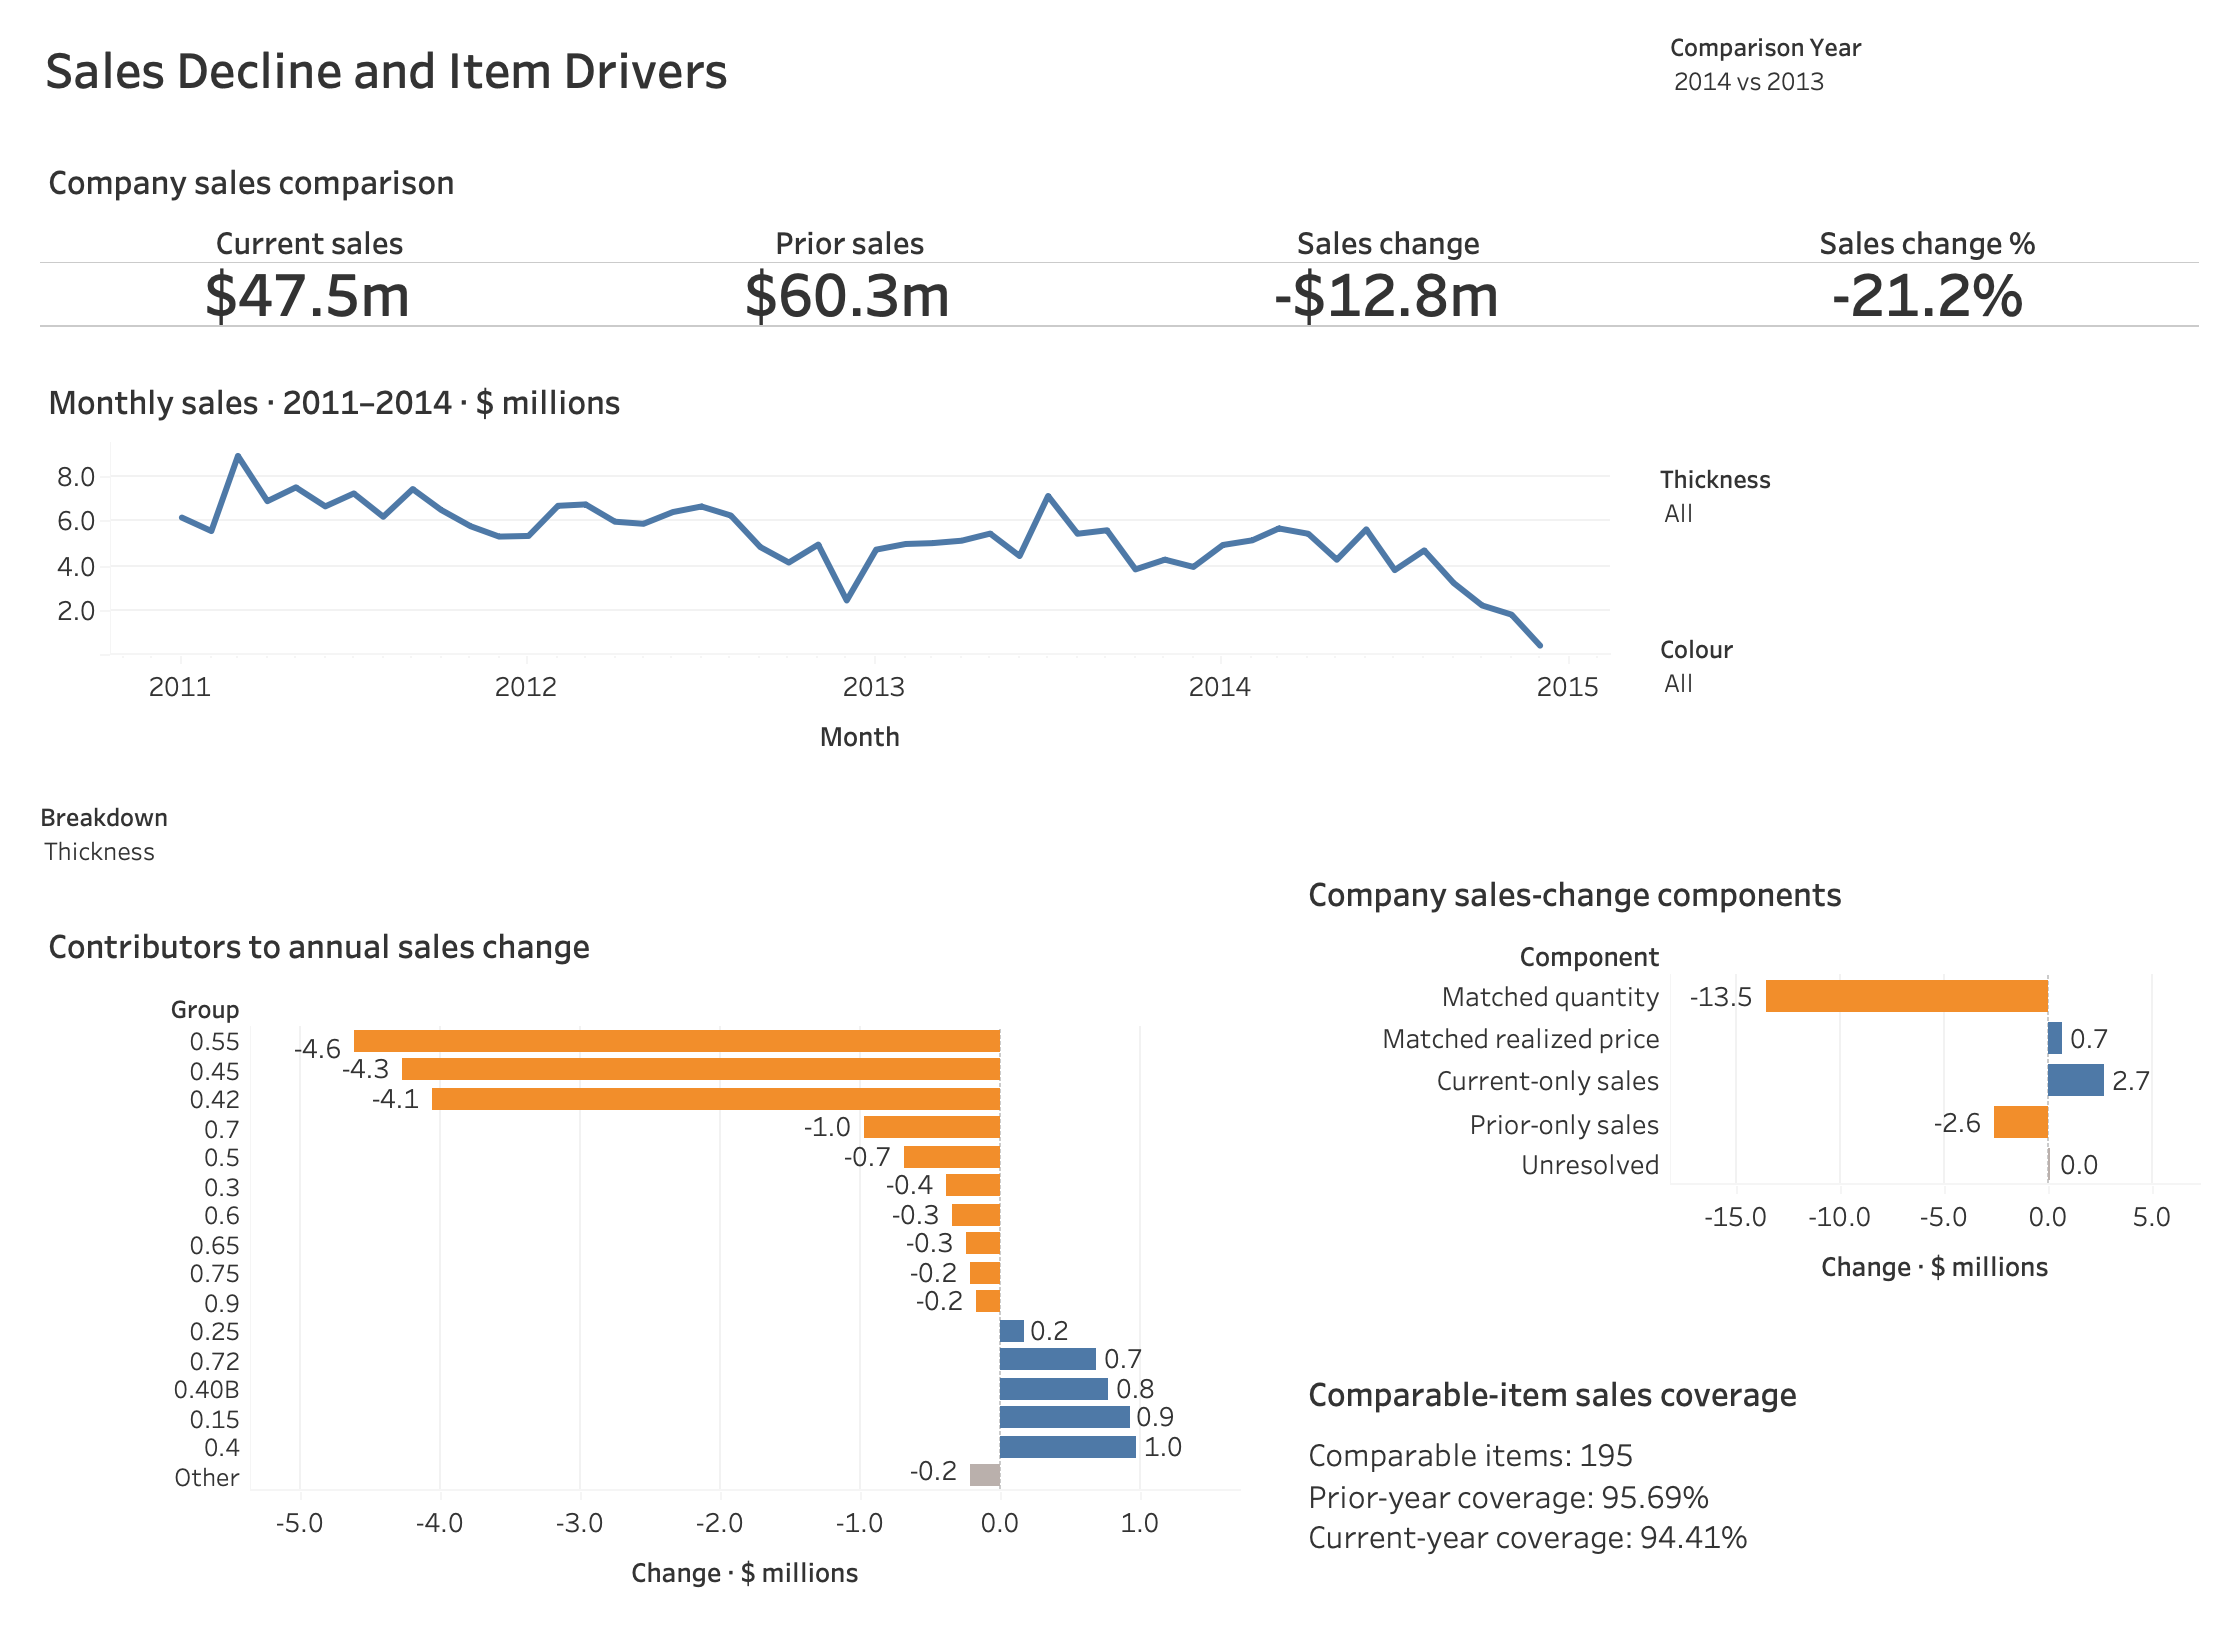

The page's visual inventory and layout, read from the dashboard file:
{"tool":"tableau","page":{"name":"Sales Decline and Item Drivers","canvas":[1120,820],"ordinal":1},"visuals":[{"type":"text","box":[20,14,760,40]},{"type":"parameter","param":"[Parameters].[Parameter 0333204537974784]","box":[835,14,265,50]},{"type":"worksheet","title":"S1 Company comparison","mark":"Text","box":[20,74,1080,90]},{"type":"worksheet","title":"S2 Monthly detail","mark":"Line","rows":["Display_Monthly_Sales_Millions"],"cols":["document_date"],"box":[20,184,785,200]},{"type":"filter","title":"S2 Monthly detail","param":"[federated.0b16y2k1ou1djj16aagss0n07oj8].[none:thickness_code:nk]","box":[830,230,270,55]},{"type":"filter","title":"S2 Monthly detail","param":"[federated.0b16y2k1ou1djj16aagss0n07oj8].[none:colour:nk]","box":[830,315,270,55]},{"type":"parameter","param":"[Parameters].[Parameter 0333204546220034]","box":[20,399,600,50]},{"type":"worksheet","title":"S4 Bridge components","mark":"Bar","rows":["component_label"],"cols":["Display_Bridge_Amount_Millions"],"box":[650,430,450,220]},{"type":"worksheet","title":"S3 Contributors","mark":"Bar","rows":["Display_Contributor_Label"],"cols":["Display_Contributor_Change_Millions"],"box":[20,456,600,346]},{"type":"worksheet","title":"S5 Bridge coverage","mark":"Text","box":[650,680,450,120]}]}

Visuals, with their boxes in screenshot pixels (x1, y1, x2, y2), scaled from the page's 1120x820 canvas onto the 2240x1640 screenshot:
text: bbox=(40, 28, 1560, 108)
parameter: bbox=(1670, 28, 2200, 128)
"S1 Company comparison" worksheet (Text marks): bbox=(40, 148, 2200, 328)
"S2 Monthly detail" worksheet (Line marks): bbox=(40, 368, 1610, 768)
"S2 Monthly detail" filter: bbox=(1660, 460, 2200, 570)
"S2 Monthly detail" filter: bbox=(1660, 630, 2200, 740)
parameter: bbox=(40, 798, 1240, 898)
"S4 Bridge components" worksheet (Bar marks): bbox=(1300, 860, 2200, 1300)
"S3 Contributors" worksheet (Bar marks): bbox=(40, 912, 1240, 1604)
"S5 Bridge coverage" worksheet (Text marks): bbox=(1300, 1360, 2200, 1600)
